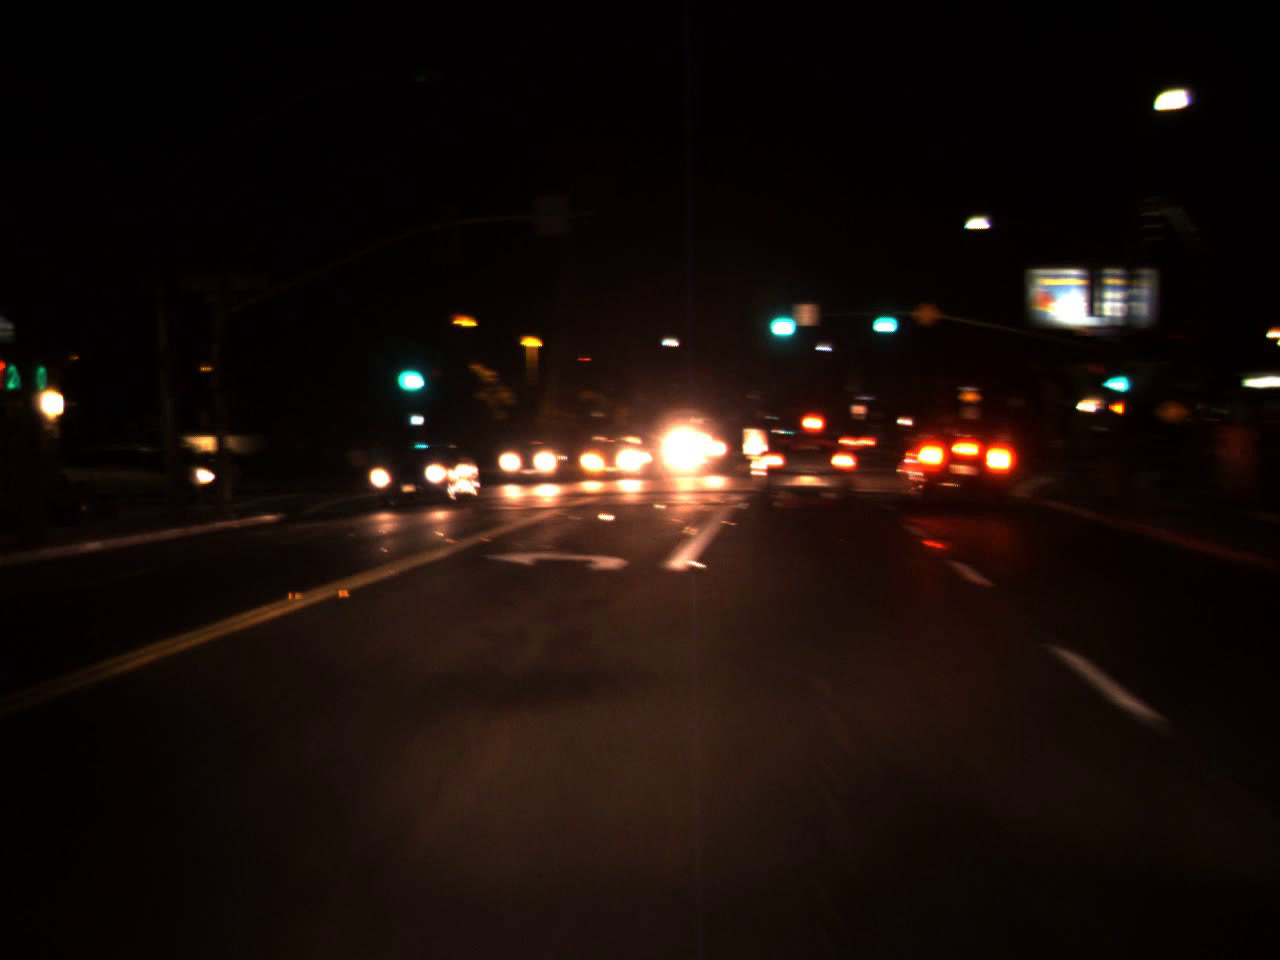go: (758, 291, 803, 345), (389, 345, 428, 399), (1093, 358, 1134, 397), (864, 295, 900, 340)
